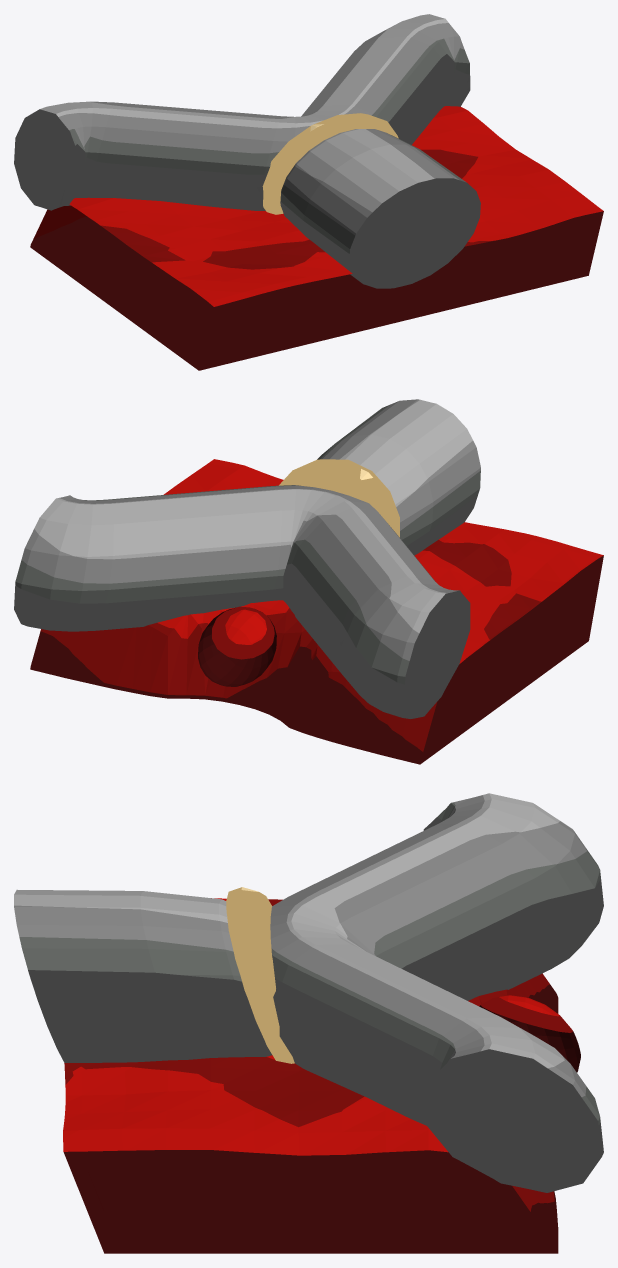
The model's file is strawberry_wing_tm.glb.
3 renders of one model, top to bottom at view 1: azimuth 30°, elevation 25°; view 2: azimuth 150°, elevation 25°; view 3: azimuth 270°, elevation 25°, orthographic. The views are drawn at different scales.
Visible parts, largest first — view 1: strawberry_wing_tm; view 2: strawberry_wing_tm; view 3: strawberry_wing_tm.
Part boxes in pixels (<box>): strawberry_wing_tm: <box>14,14,603,370</box>; strawberry_wing_tm: <box>14,399,603,764</box>; strawberry_wing_tm: <box>14,793,603,1253</box>.
Bounding box in the file's own units: 24 × 10 × 23.39.
